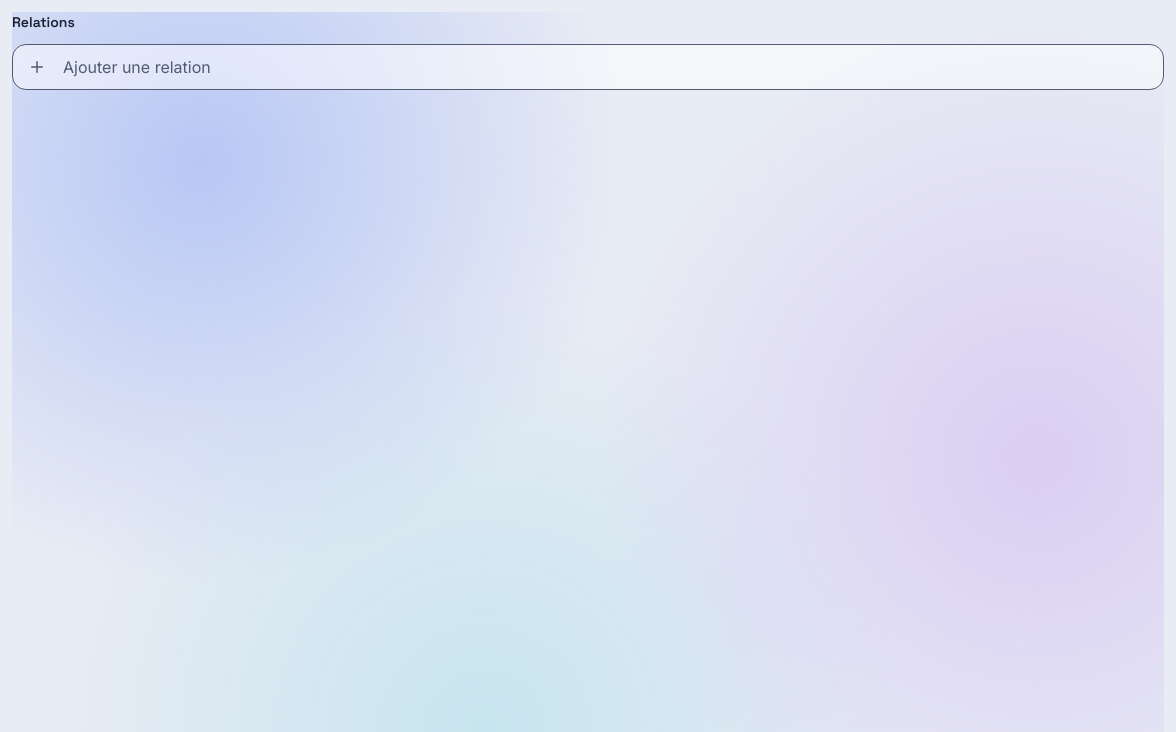
section « Relations » du détail › refus cross_side_relation traduit sous le champ
This screenshot has width=1176, height=732.
Click the button "Ajouter une relation". click: {"x": 137, "y": 67}
box: [12,44,1164,90]
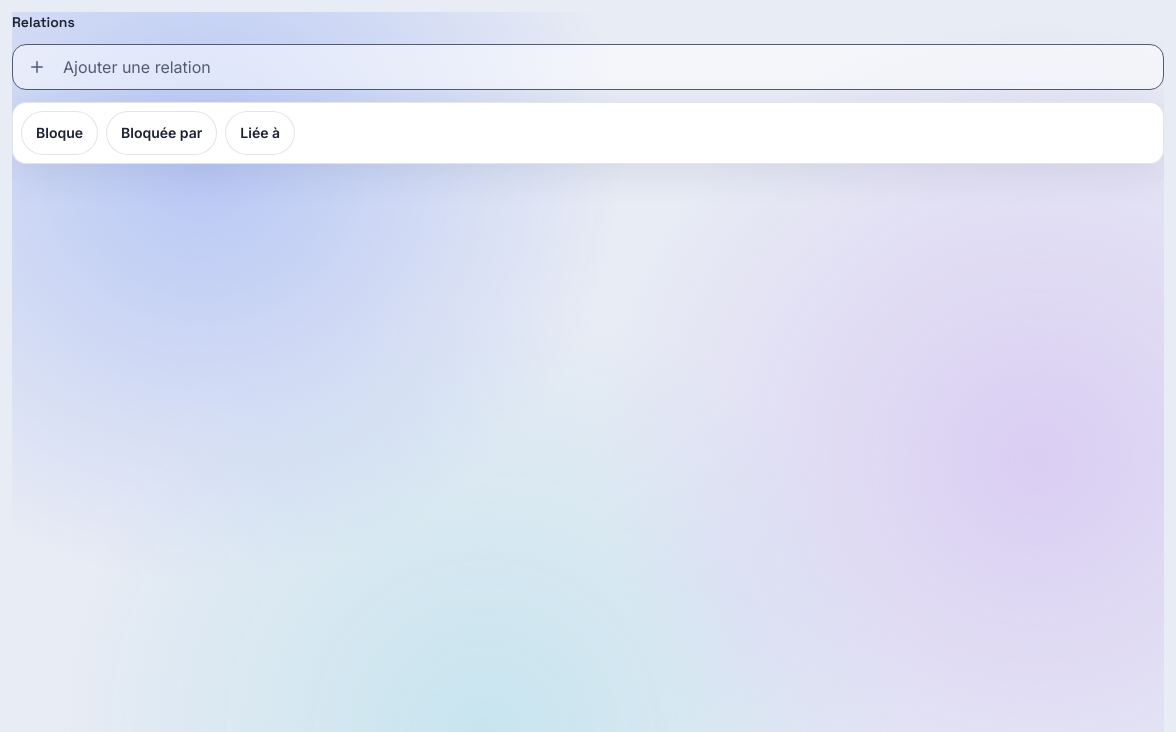
Click the button "Bloque". click: {"x": 60, "y": 133}
box: [21,111,98,155]
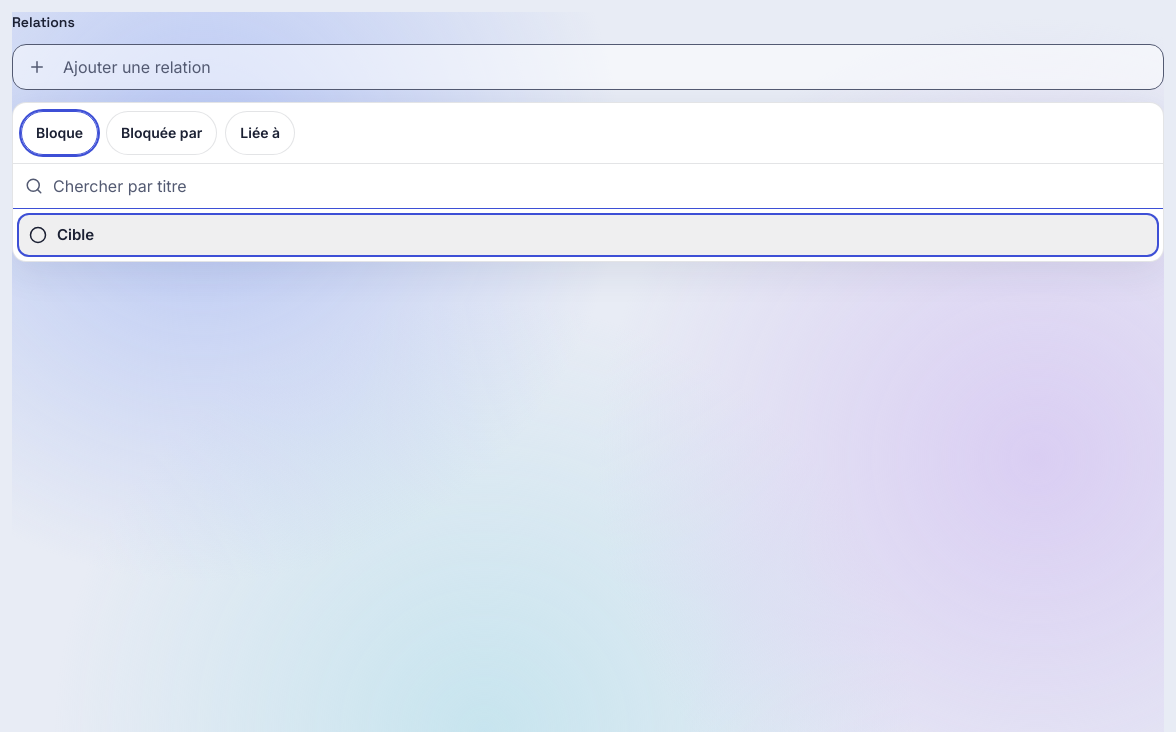
Click the option "Cible". click: {"x": 76, "y": 235}
box: [17,213,1159,257]
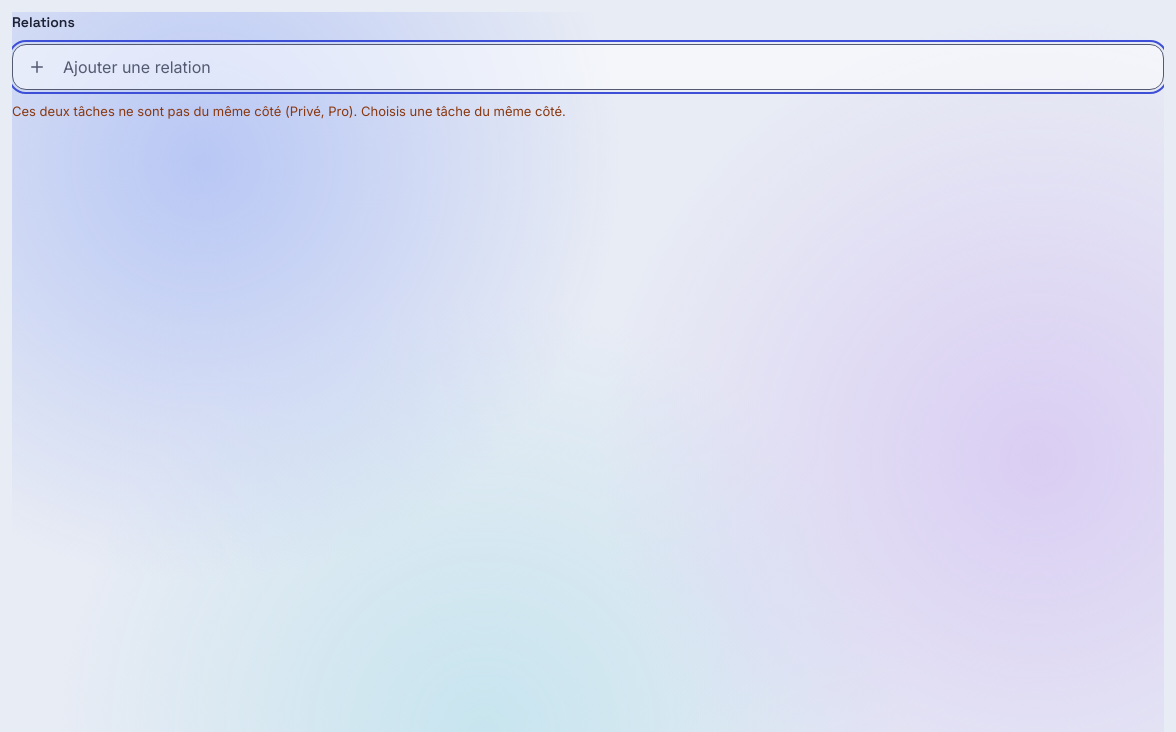
Expected: the message shows "Ces deux tâches ne sont pas du même côté (Privé, Pro). Choisis une tâche du même côté.", [12,103,566,119]
